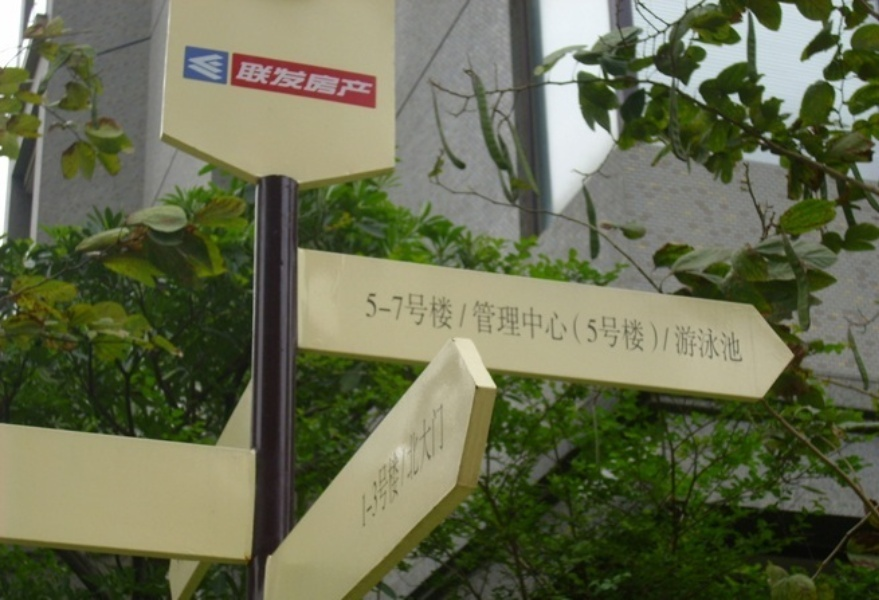text: (369, 403, 384, 532), (385, 403, 400, 532), (401, 403, 416, 532), (417, 403, 432, 532), (433, 403, 448, 532), (359, 403, 368, 532), (369, 286, 384, 363), (385, 286, 400, 363), (401, 286, 416, 363), (417, 286, 432, 363), (433, 286, 448, 363), (449, 286, 464, 363), (465, 286, 480, 363), (481, 286, 496, 363), (497, 286, 512, 363), (513, 286, 528, 363), (529, 286, 544, 363), (545, 286, 560, 363), (561, 286, 576, 363), (577, 286, 592, 363), (593, 286, 608, 363), (609, 286, 624, 363), (625, 286, 640, 363), (641, 286, 656, 363), (657, 286, 672, 363), (673, 286, 688, 363), (689, 286, 704, 363), (705, 286, 720, 363), (721, 286, 736, 363), (737, 286, 748, 363), (241, 60, 256, 104), (257, 60, 272, 104), (273, 60, 288, 104), (289, 60, 304, 104), (305, 60, 320, 104), (321, 60, 336, 104), (337, 60, 352, 104), (353, 60, 368, 104), (449, 403, 453, 532), (369, 60, 376, 104), (234, 60, 240, 104), (367, 286, 368, 363)
